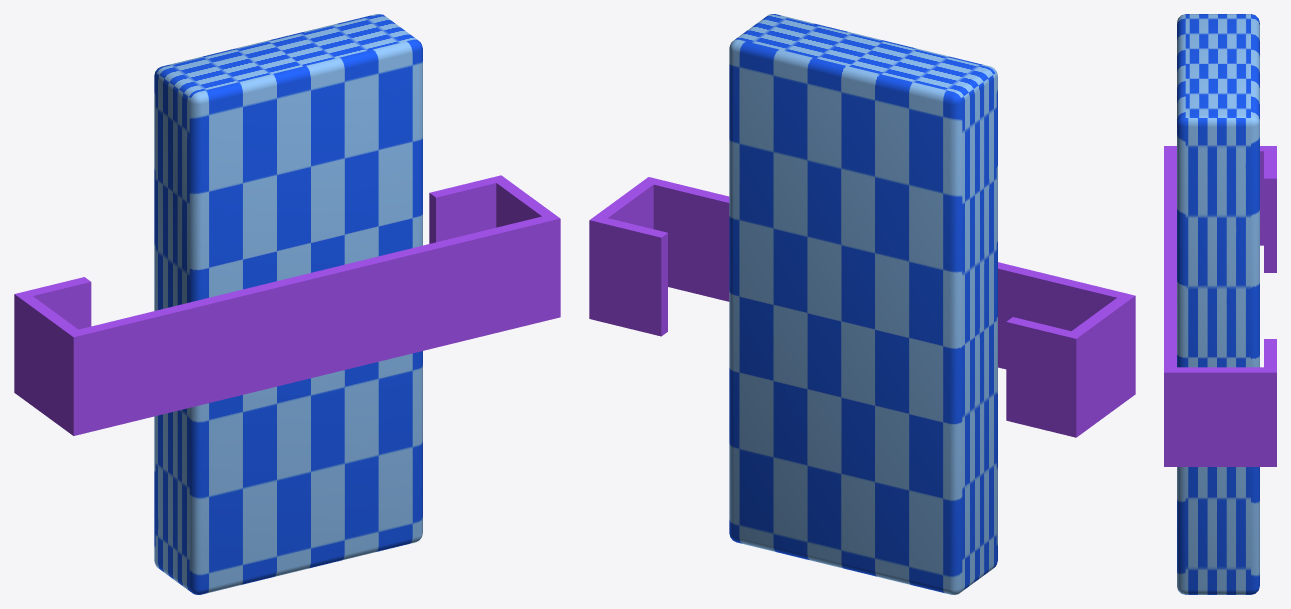
File: LightWall08_2.FBX
3 renders of one model, left to right at view 1: azimuth 30°, elevation 25°; view 2: azimuth 150°, elevation 25°; view 3: azimuth 270°, elevation 25°, orthographic. The views are drawn at different scales.
Parts seen in each view (by area): view 1: LightWall08_2; view 2: LightWall08_2; view 3: LightWall08_2.
Boxes of the visible parts, bbox=[...] form: LightWall08_2: bbox=[14, 14, 560, 594]; LightWall08_2: bbox=[589, 14, 1135, 594]; LightWall08_2: bbox=[1164, 14, 1276, 594].
Size of the model in its own units: 21 by 20.7 by 4.42.
